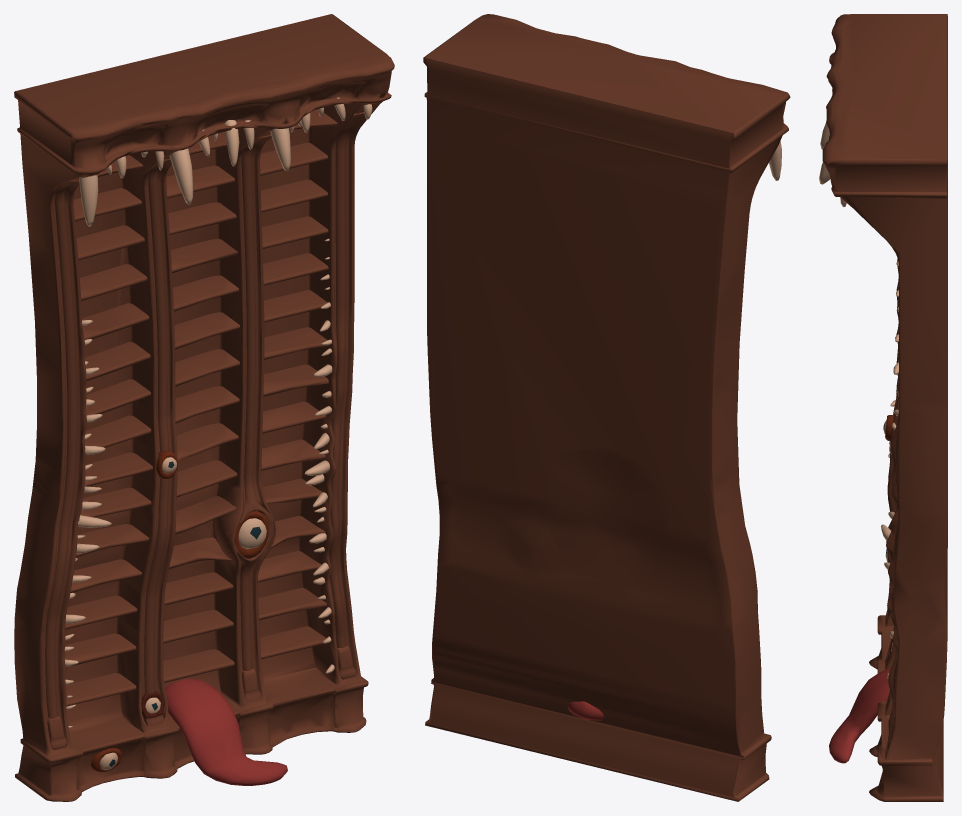
File: MOD_BookCaseMimicLarge.fbx
3 views of the same model, side by side, from view 1: azimuth 30°, elevation 25°; view 2: azimuth 150°, elevation 25°; view 3: azimuth 270°, elevation 25° (orthographic). The views are drawn at different scales.
Visible parts, largest first — view 1: MOD_BookCaseMimicLarge; view 2: MOD_BookCaseMimicLarge; view 3: MOD_BookCaseMimicLarge.
Part boxes in pixels (x1,y1,x2,y2): MOD_BookCaseMimicLarge: (14,14,394,801); MOD_BookCaseMimicLarge: (423,14,790,801); MOD_BookCaseMimicLarge: (819,14,947,801).
Bounding box in the file's own units: 601 × 1246 × 223.
